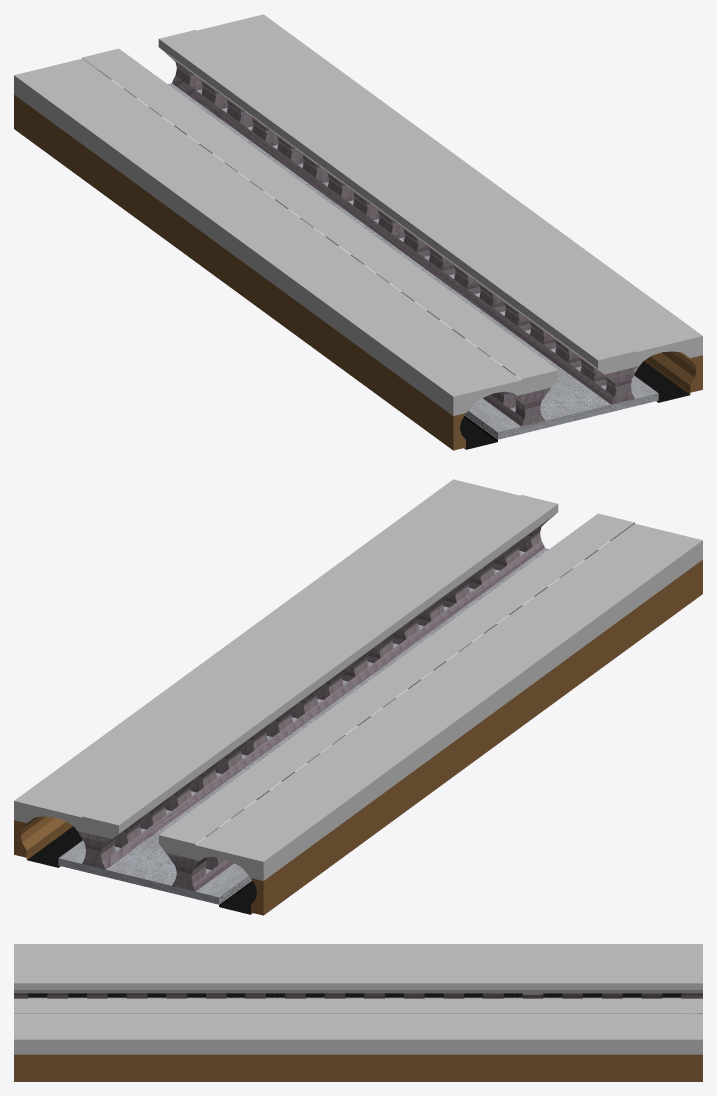
The model's file is prz_platforma_metra_2.fbx.
3 views of the same model, one above another, from view 1: azimuth 30°, elevation 25°; view 2: azimuth 150°, elevation 25°; view 3: azimuth 270°, elevation 25° (orthographic). The views are drawn at different scales.
Visible parts, largest first — view 1: metroPlatform.001, metroPlatform; view 2: metroPlatform.001, metroPlatform; view 3: metroPlatform.001, metroPlatform.
Boxes of the visible parts, x1,y1,x2,y2 form: metroPlatform.001: (14,14,702,415); metroPlatform: (14,53,702,450); metroPlatform.001: (14,479,702,880); metroPlatform: (14,519,702,915); metroPlatform.001: (14,944,702,1054); metroPlatform: (14,993,702,1081).
Bounding box in the file's own units: 1129 × 248 × 3443.
